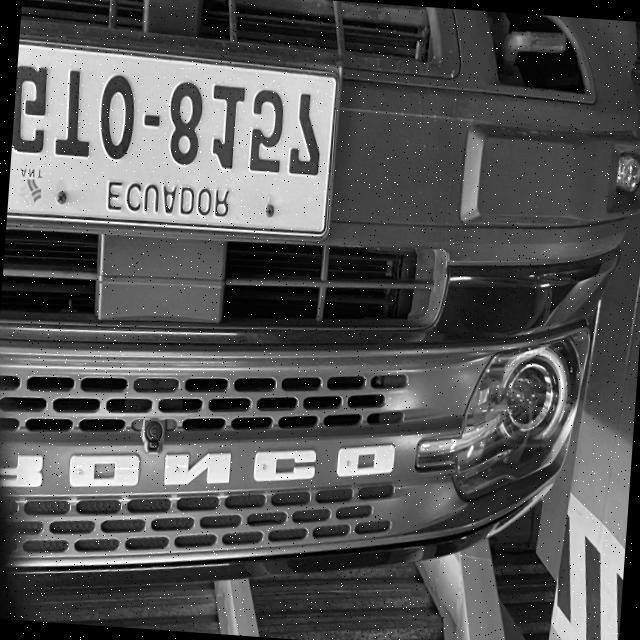Placa: (7, 42, 337, 235)
